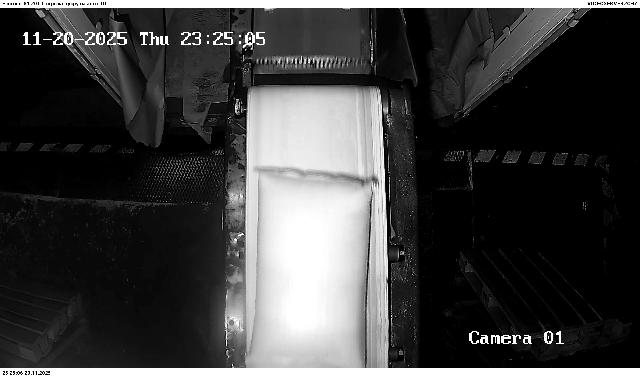bag: (247, 168, 376, 368)
